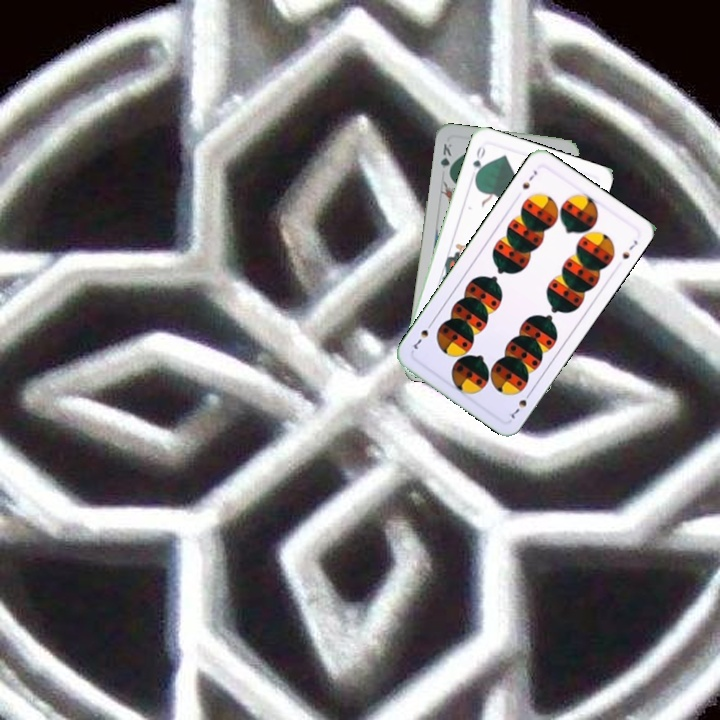GK: (436, 139, 455, 179)
GO: (468, 142, 488, 181)
S7: (504, 387, 534, 421), (518, 166, 540, 192)
